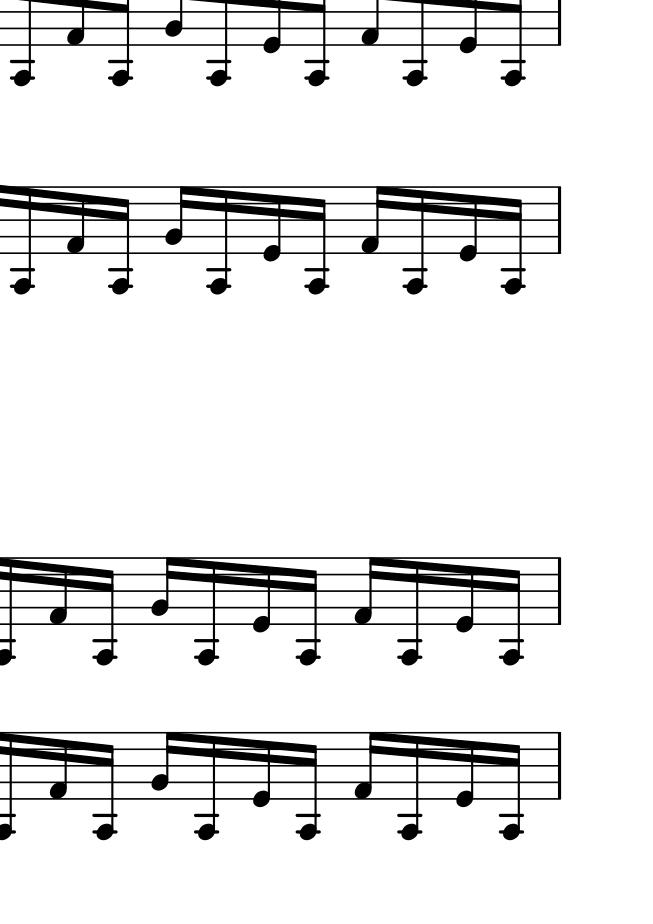16_-4: (293, 556, 326, 668), (400, 184, 430, 299), (205, 185, 235, 296), (497, 185, 527, 296), (91, 554, 119, 668), (396, 730, 424, 842), (8, 185, 36, 295), (193, 555, 220, 669), (304, 184, 331, 298), (497, 556, 524, 666), (400, 555, 426, 667), (195, 731, 221, 841), (93, 729, 117, 845), (499, 730, 523, 845), (296, 730, 320, 843), (108, 186, 132, 298)
16_0: (260, 185, 288, 263), (451, 555, 478, 633), (456, 185, 482, 261), (250, 557, 274, 634), (454, 731, 477, 810), (251, 731, 273, 810)
16_1: (360, 184, 388, 256), (352, 555, 380, 626), (352, 732, 380, 800), (47, 555, 71, 626), (66, 186, 90, 256), (49, 729, 71, 802)
16_2: (150, 731, 179, 803), (165, 184, 192, 257), (151, 555, 178, 627)
Single_barline: (550, 188, 567, 252), (551, 559, 567, 624), (551, 732, 566, 799)
